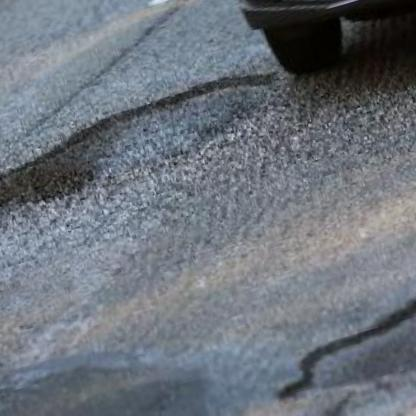pothole: (0, 54, 294, 226), (246, 207, 416, 416)
